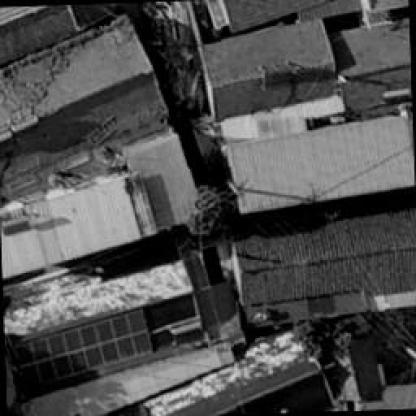solar-pv-panel: (17, 309, 153, 389)
